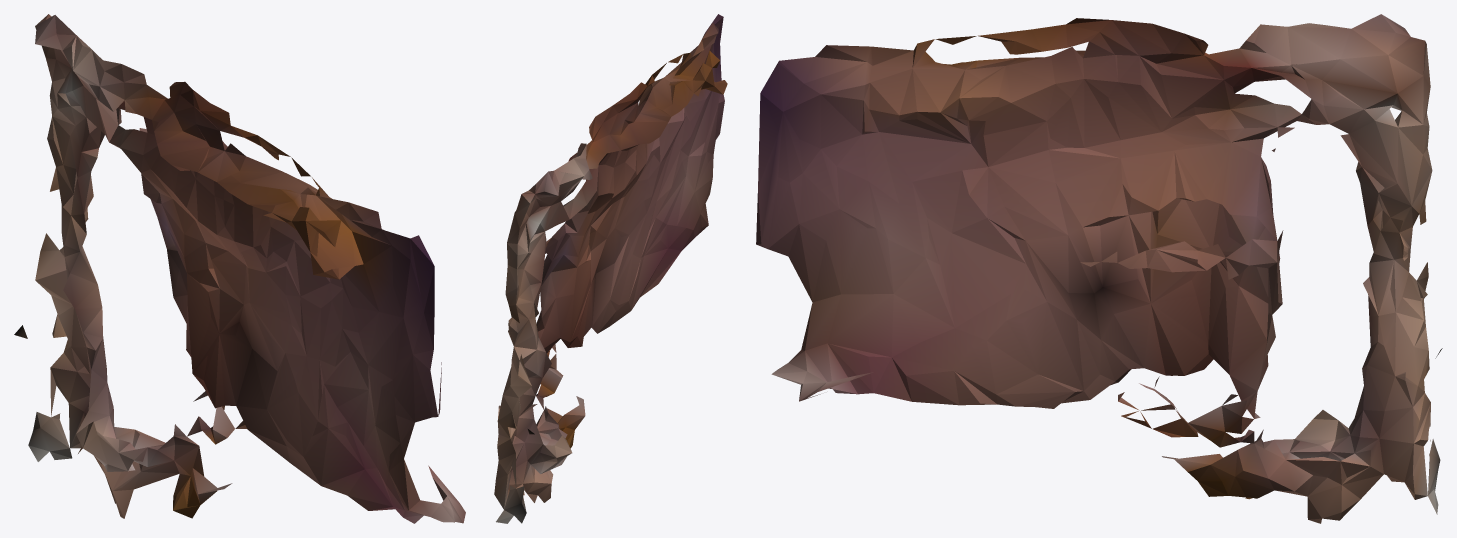
The model's file is prep_run__upper_pantry_door.scan.glb.
3 views of the same model, side by side, from view 1: azimuth 30°, elevation 25°; view 2: azimuth 150°, elevation 25°; view 3: azimuth 270°, elevation 25° (orthographic). The views are drawn at different scales.
Visible parts, largest first — view 1: geometry_0; view 2: geometry_0; view 3: geometry_0.
Boxes of the visible parts, left/top/right/bottom form: geometry_0: left=14, top=14, right=465, bottom=523; geometry_0: left=494, top=14, right=727, bottom=523; geometry_0: left=756, top=14, right=1442, bottom=523.
Size of the model in its own units: 0.1572 by 0.513 by 0.639.
